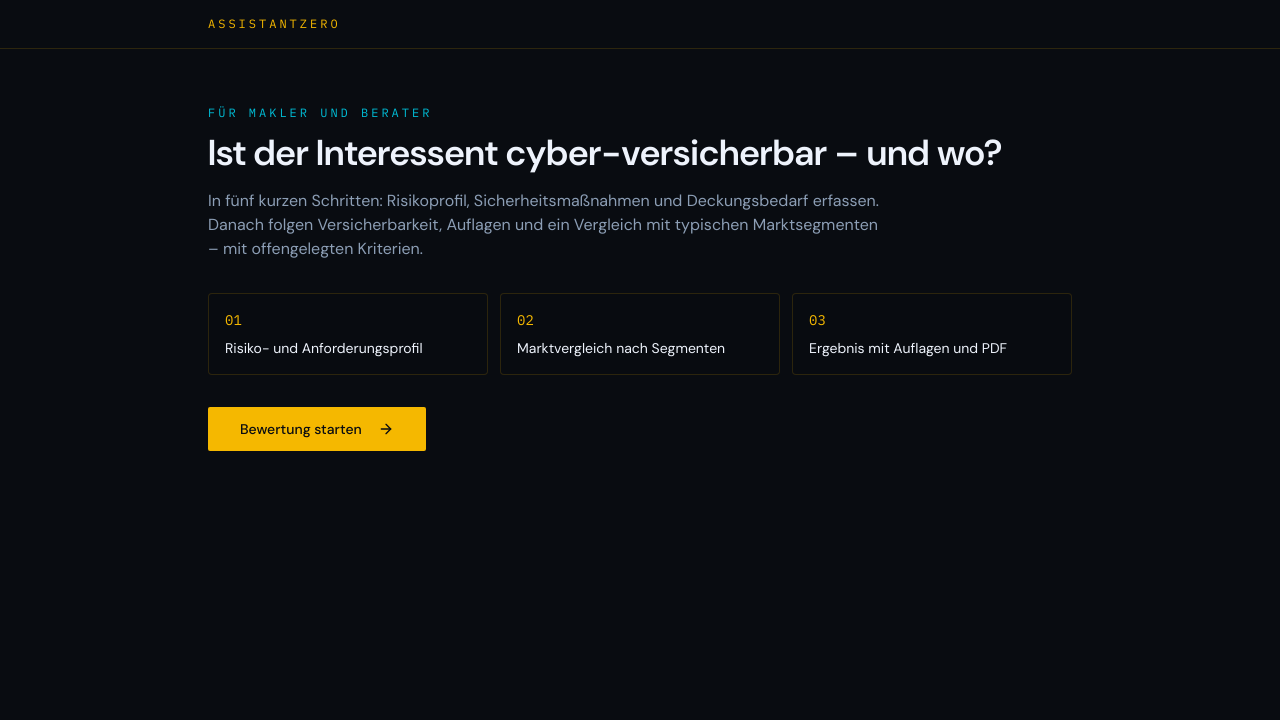
it: AssistantZero confidential intake › deletes legacy stored inputs instead of restoring them
Click the button "Bewertung starten": (317, 429) top-left (208, 407), bottom-right (426, 451)
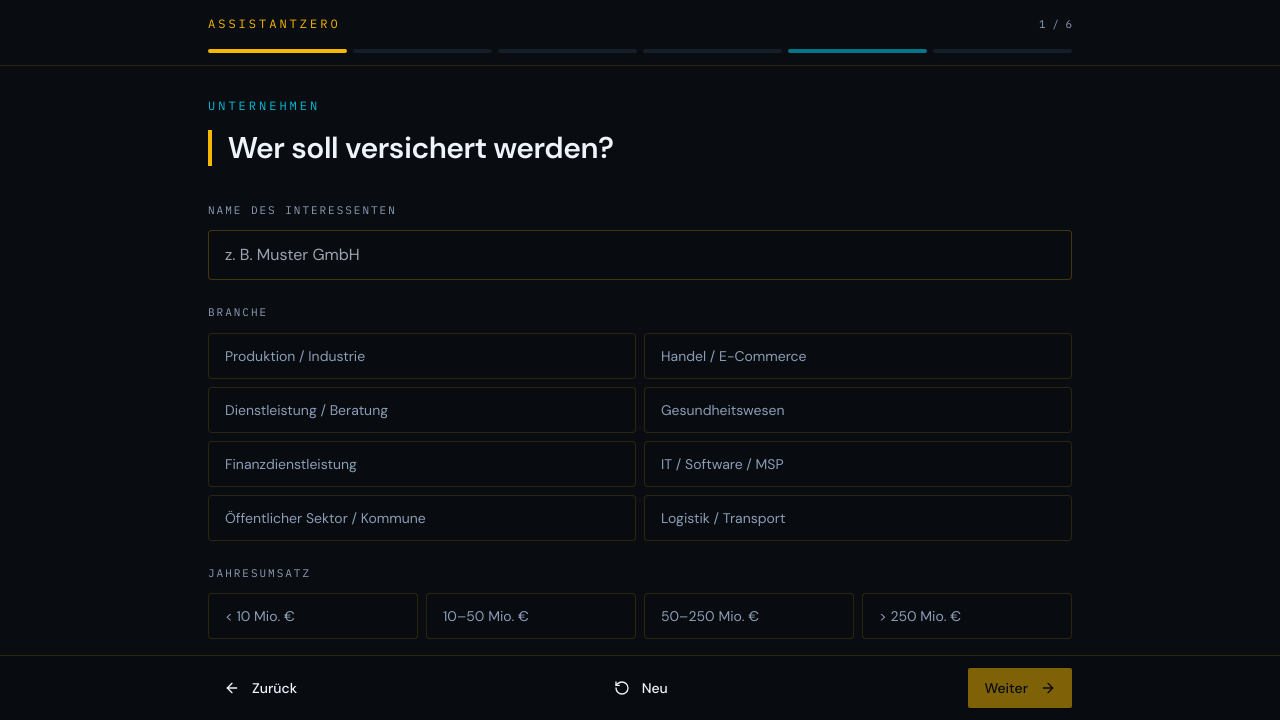
Result: the field is empty at top-left (208, 230), bottom-right (1072, 280)
